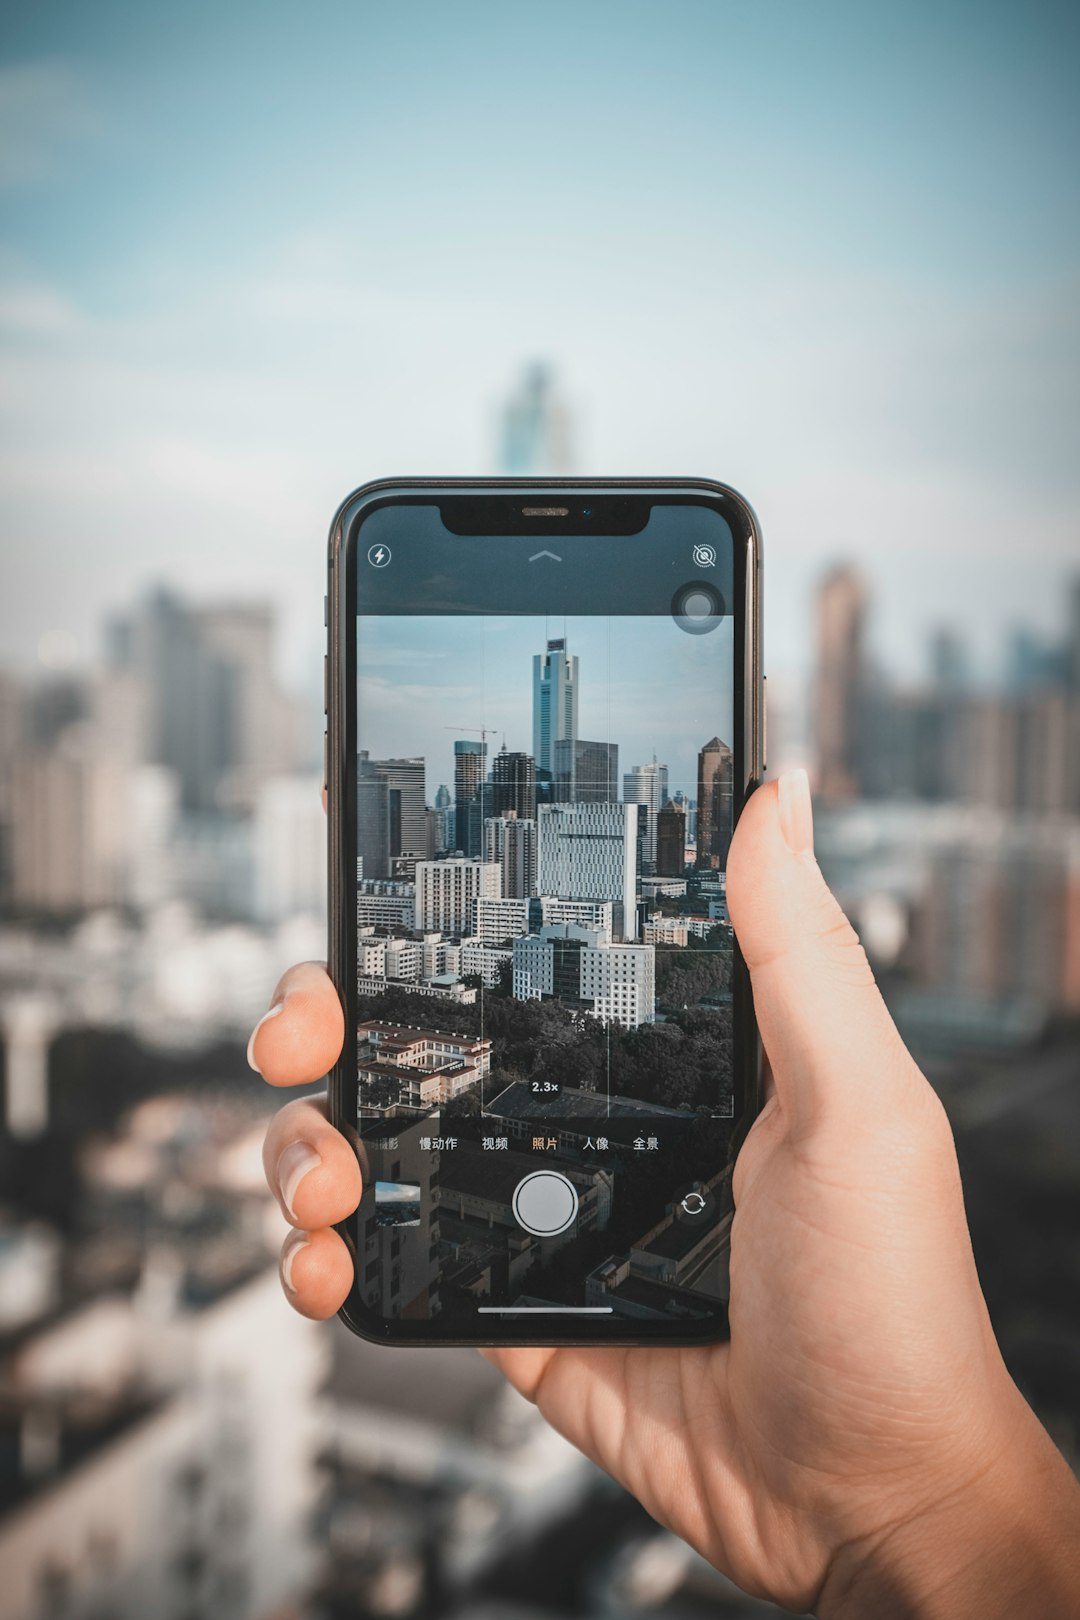phone: (329, 475, 765, 1342)
